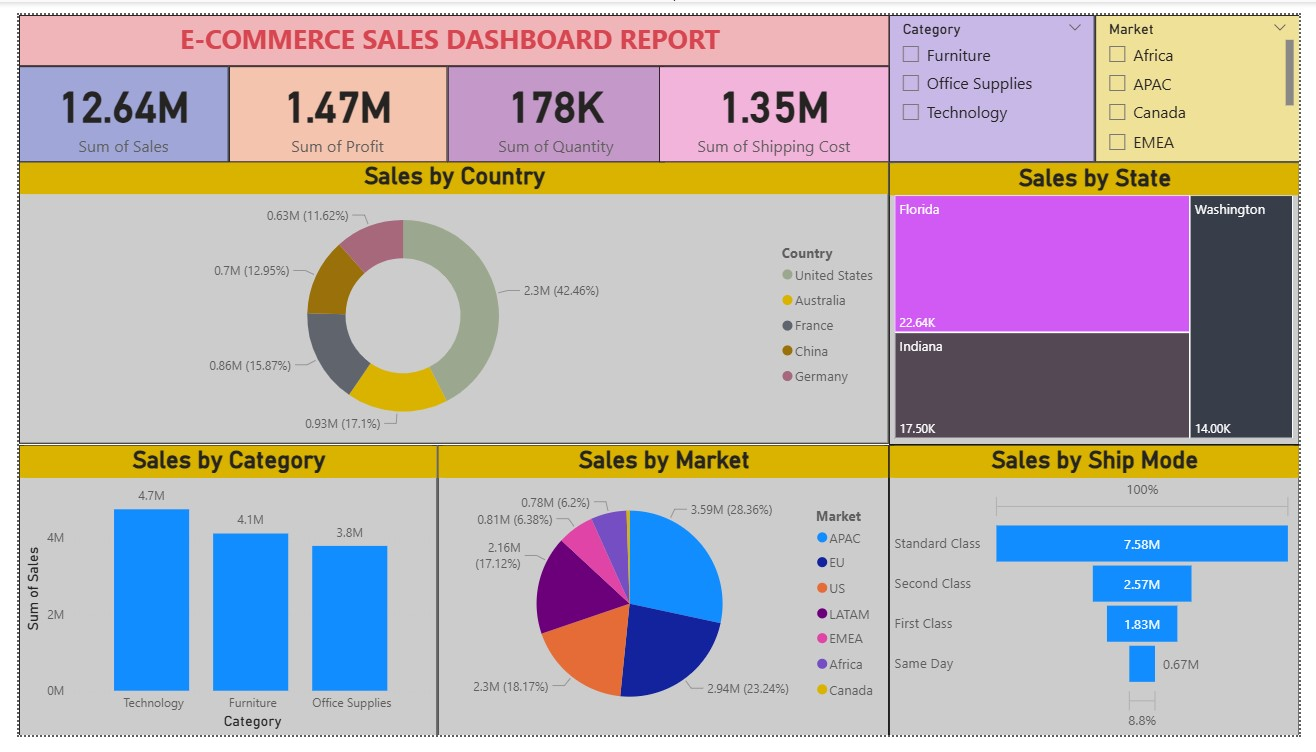

The page's visual inventory and layout, read from the dashboard file:
{"tool":"powerbi","page":{"name":"Page 1","canvas":[1280,720],"ordinal":0},"visuals":[{"type":"columnChart","title":"Sales by Category","fields":{"Category":["Orders.Category"],"Y":["Sum(Orders.Sales)"]},"box":[0,429.5,418.5,290.9],"z":0},{"type":"pieChart","title":"Sales by Market","fields":{"Category":["Orders.Market"],"Y":["Sum(Orders.Sales)"]},"box":[418.5,429.5,451.5,290.9],"z":1000},{"type":"funnel","title":"Sales by Ship Mode","fields":{"Category":["Orders.Ship Mode"],"Y":["Sum(Orders.Sales)"]},"box":[870,429.5,410.3,290.9],"z":2000},{"type":"donutChart","title":"Sales by Country","fields":{"Category":["Orders.Country"],"Y":["Sum(Orders.Sales)"]},"box":[0,146.8,870,282.7],"z":3000},{"type":"treemap","title":"Sales by State","fields":{"Group":["Orders.State"],"Values":["Sum(Orders.Sales)"]},"box":[869.8,147.2,410.2,282.3],"z":4000},{"type":"card","fields":{"Values":["Sum(Orders.Sales)"]},"box":[0,50.8,209.9,96.1],"z":5000},{"type":"card","fields":{"Values":["Sum(Orders.Profit)"]},"box":[209.9,50.8,218.2,96.1],"z":6000},{"type":"card","fields":{"Values":["Sum(Orders.Quantity)"]},"box":[428.1,50.8,216.8,96.1],"z":7000},{"type":"card","fields":{"Values":["Sum(Orders.Shipping Cost)"]},"box":[639.5,50.8,230.5,96.1],"z":8000},{"type":"slicer","fields":{"Values":["Orders.Category"]},"box":[870,0,205.8,146.8],"z":9000},{"type":"slicer","fields":{"Values":["Orders.Market"]},"box":[1075.8,0,204.5,146.8],"z":10000},{"type":"textbox","box":[0,0,870,51],"z":10001}]}

Visuals, with their boxes in screenshot pixels (x1, y1, x2, y2), scaled from the page's 1280x720 canvas onto the 1316x752 screenshot:
"Sales by Category" columnChart: [0, 449, 430, 751]
"Sales by Market" pieChart: [430, 449, 894, 751]
"Sales by Ship Mode" funnel: [894, 449, 1315, 751]
"Sales by Country" donutChart: [0, 153, 894, 449]
"Sales by State" treemap: [894, 154, 1315, 449]
card - Sum(Orders.Sales): [0, 53, 216, 153]
card - Sum(Orders.Profit): [216, 53, 440, 153]
card - Sum(Orders.Quantity): [440, 53, 663, 153]
card - Sum(Orders.Shipping Cost): [657, 53, 894, 153]
slicer - Orders.Category: [894, 0, 1106, 153]
slicer - Orders.Market: [1106, 0, 1315, 153]
textbox: [0, 0, 894, 53]
